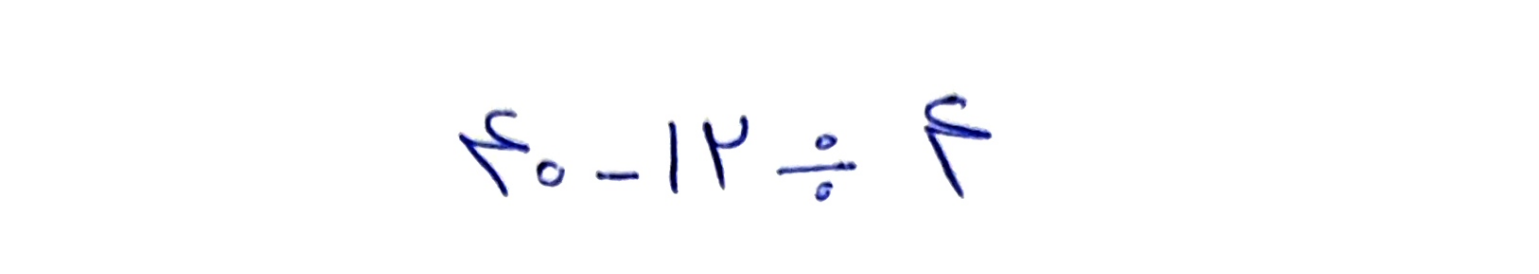character: (924, 92, 991, 199), (455, 107, 531, 197), (776, 132, 857, 202), (702, 115, 748, 191), (668, 118, 681, 194), (534, 159, 569, 187), (595, 169, 641, 181)
